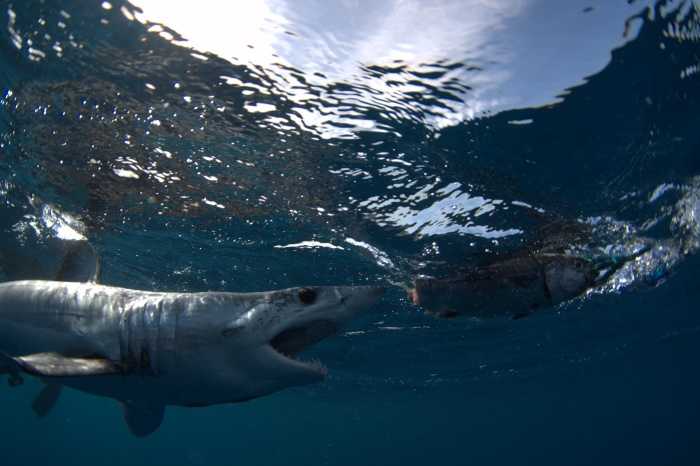Mako: (1, 243, 418, 444)
